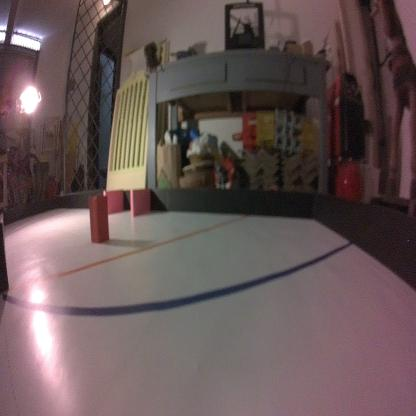magenta: (128, 187, 152, 216), (104, 188, 125, 217)
red: (87, 193, 110, 245)
